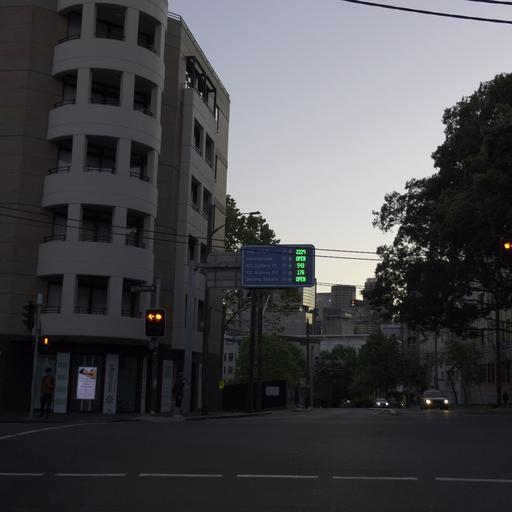Street light: (200, 209, 261, 413), (206, 210, 260, 253), (144, 307, 165, 337), (498, 236, 511, 266)
